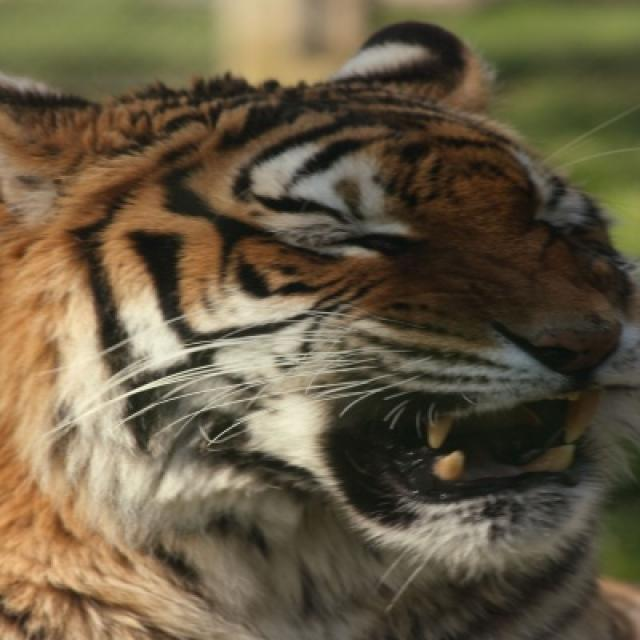Tiger: (0, 20, 637, 631)
